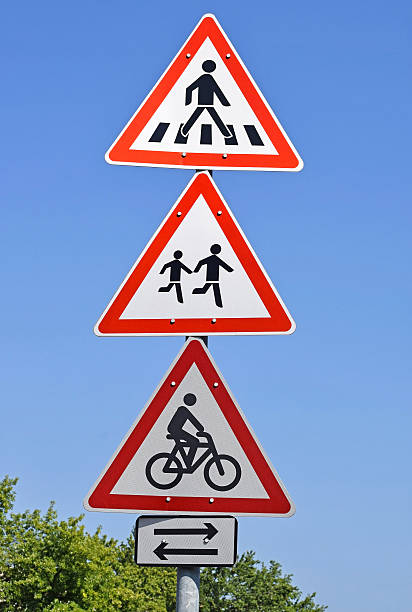pedestrian: (115, 29, 290, 172), (111, 187, 275, 327)
